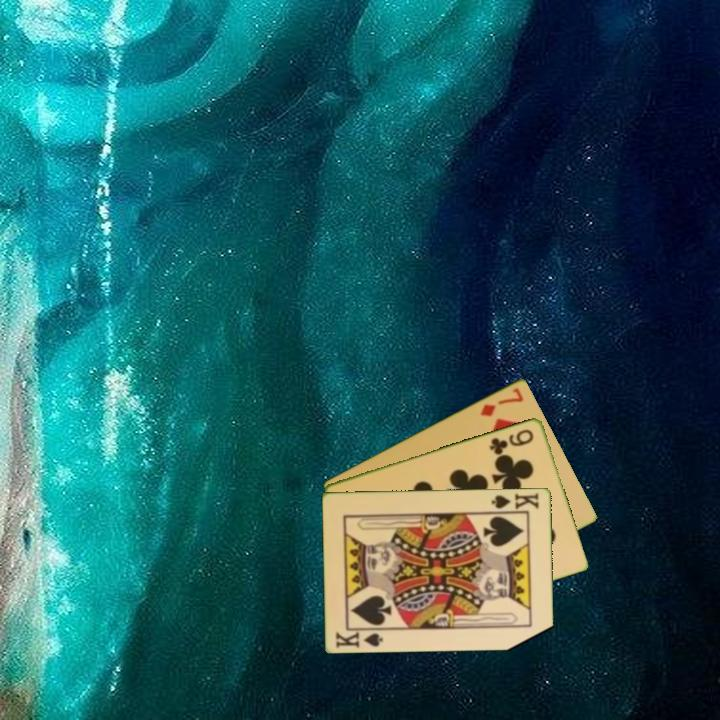7d: (477, 384, 526, 419)
9c: (486, 425, 537, 457)
Ks: (332, 626, 387, 651), (488, 489, 542, 514)
